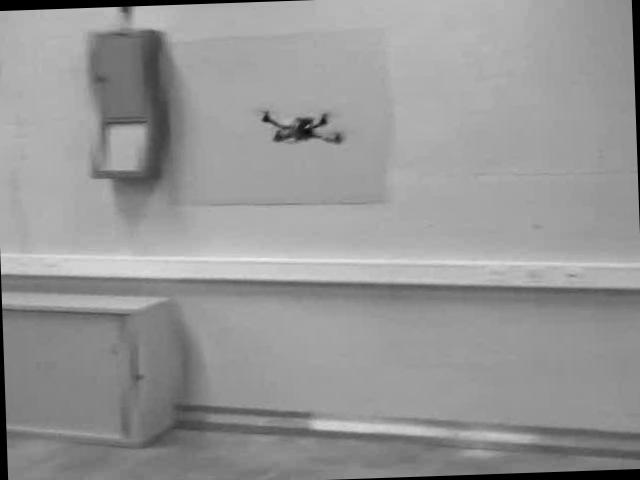drone: (254, 101, 346, 149)
